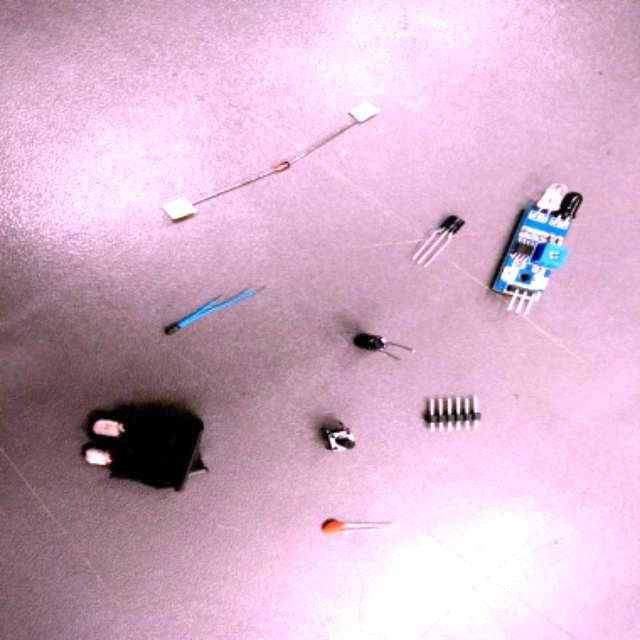capacitor: (353, 334, 385, 351), (322, 519, 349, 537)
